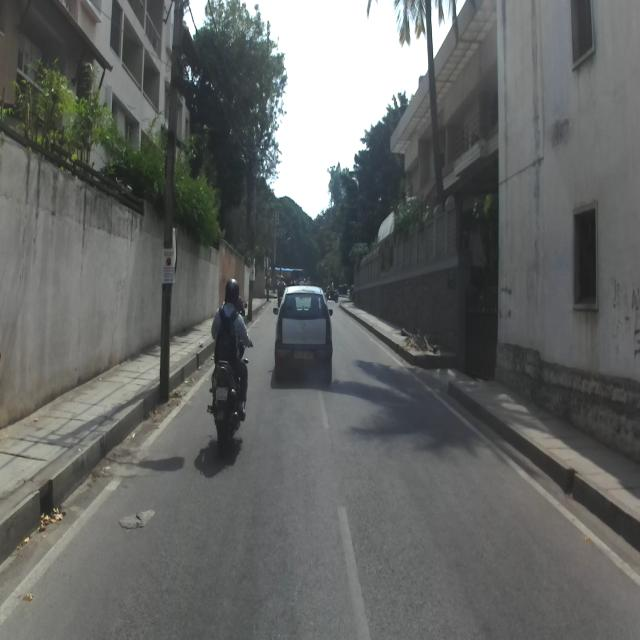car ahead at: (274, 281, 338, 393)
electric pole ahead at: (154, 0, 198, 407)
motorcycle ahead at: (207, 356, 255, 448)
